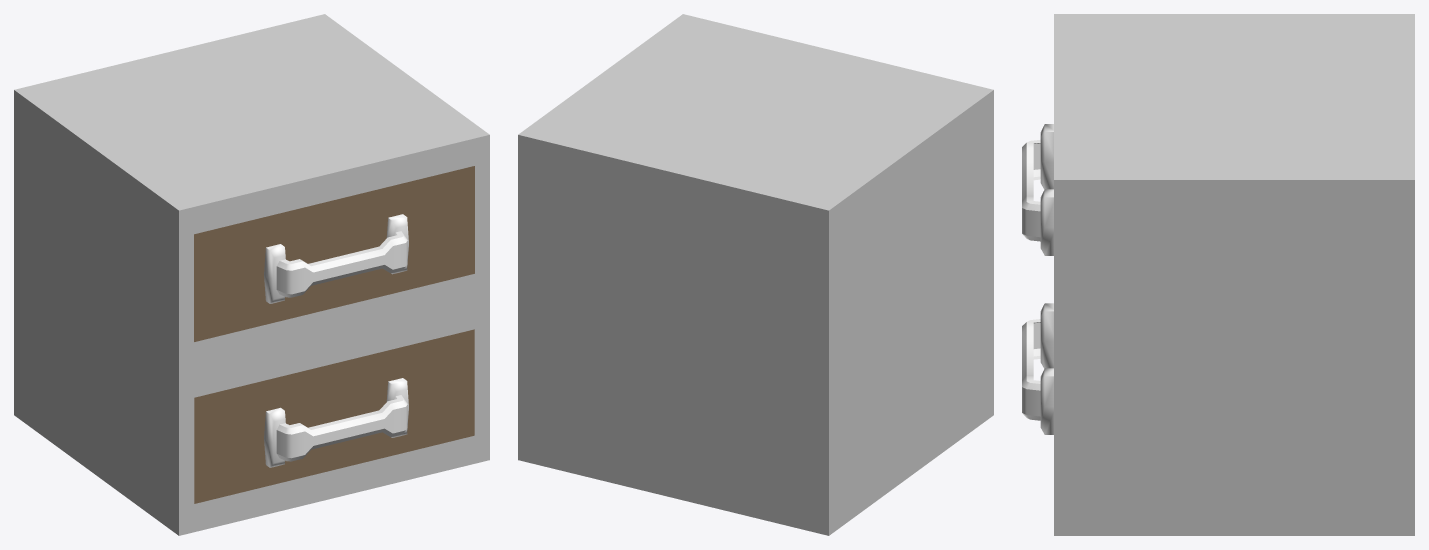
The model's file is workbench_drawers.glb.
The picture shows the model from 3 angles, left to right: view 1: azimuth 30°, elevation 25°; view 2: azimuth 150°, elevation 25°; view 3: azimuth 270°, elevation 25°; orthographic projection. The views are drawn at different scales.
Parts seen in each view (by area): view 1: Workbench_Drawers; view 2: Workbench_Drawers; view 3: Workbench_Drawers.
Part boxes in pixels (x1=…): Workbench_Drawers: x1=14, y1=14, x2=489, y2=535; Workbench_Drawers: x1=518, y1=14, x2=993, y2=535; Workbench_Drawers: x1=1022, y1=14, x2=1414, y2=535.
Size of the model in its own units: 1 by 1 by 1.
